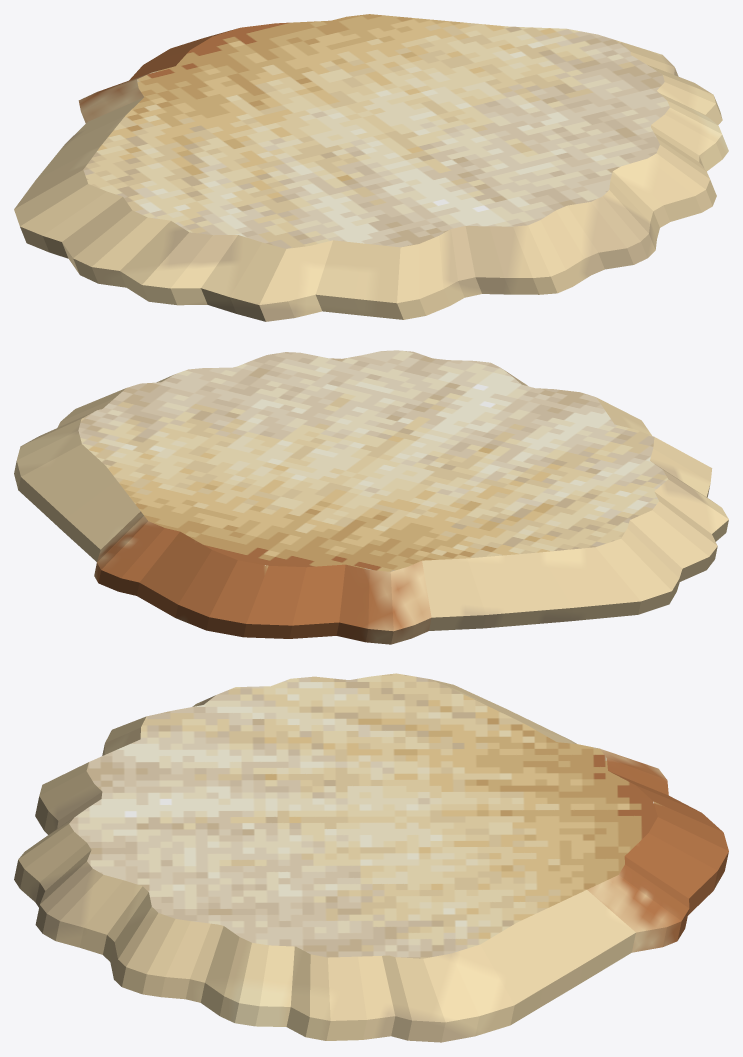
File: concha.fbx
The picture shows the model from 3 angles, top to bottom: view 1: azimuth 30°, elevation 25°; view 2: azimuth 150°, elevation 25°; view 3: azimuth 270°, elevation 25°; orthographic projection. The views are drawn at different scales.
Visible parts, largest first — view 1: Plane; view 2: Plane; view 3: Plane.
Part boxes in pixels (left/top/right/bottom): Plane: left=14, top=14, right=728, bottom=321; Plane: left=14, top=350, right=728, bottom=644; Plane: left=14, top=673, right=728, bottom=1042.
Size of the model in its own units: 167 by 12.1 by 146.
1 material, 1 textured.
